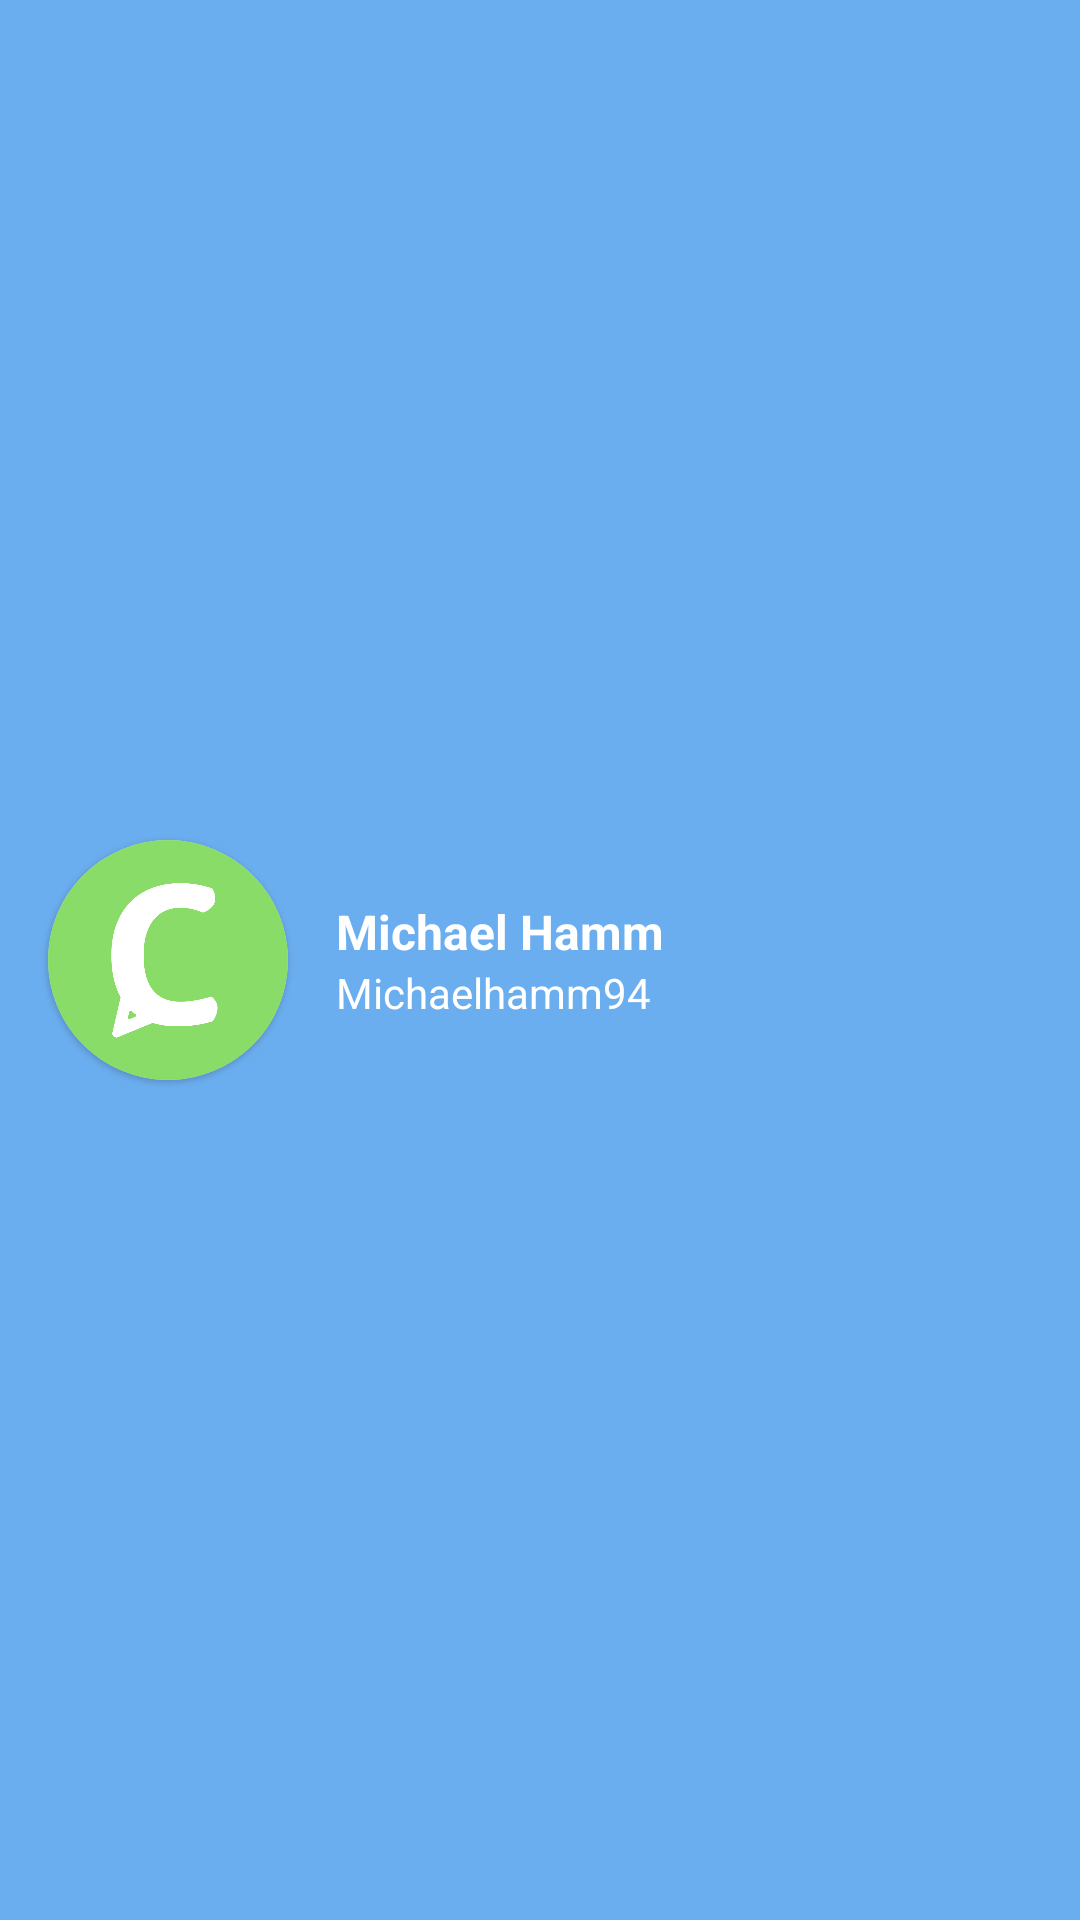

Icon bounding boxes for this 1080*1920 phone screenshot, format (x1, y1, x2, y2):
chattr: (48, 840, 288, 1080)
